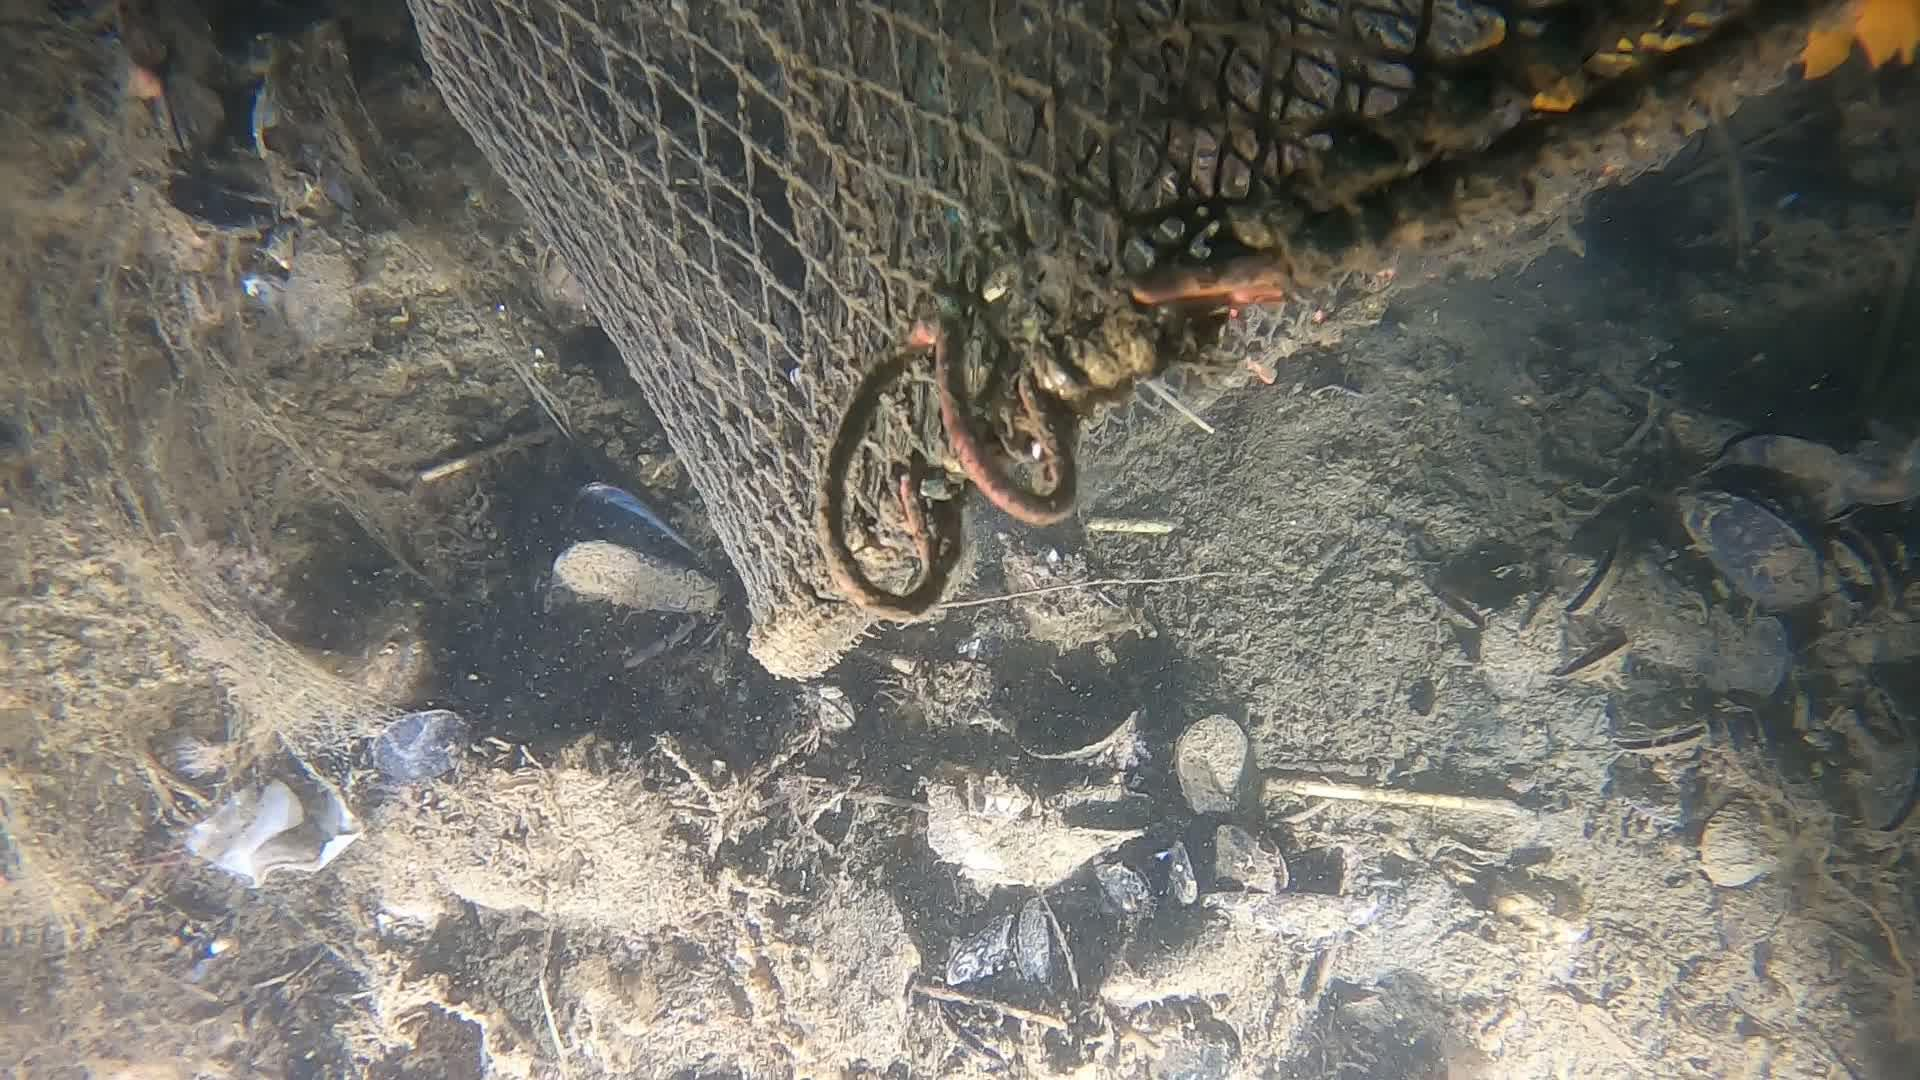fish net: (396, 0, 1518, 603)
